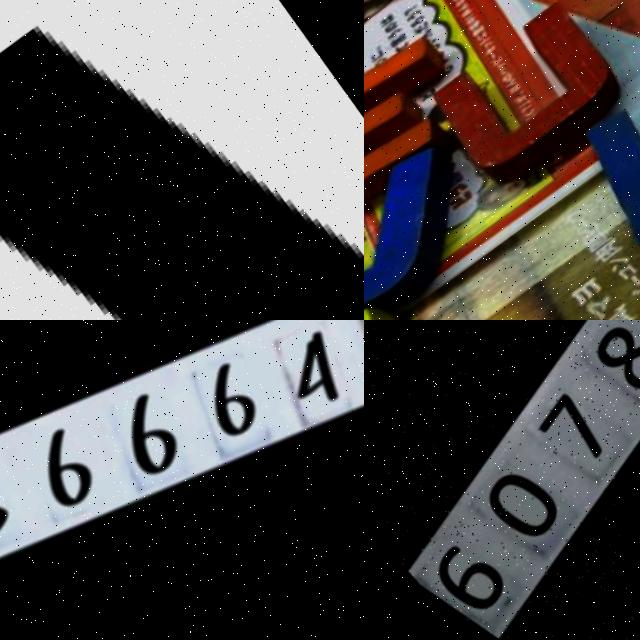0: (451, 428, 602, 577)
4: (250, 320, 364, 426)
6: (400, 502, 548, 640), (85, 365, 214, 494), (2, 400, 131, 528), (172, 336, 289, 452)
7: (509, 358, 640, 496)
8: (559, 320, 640, 423), (0, 430, 52, 568)
A: (0, 0, 364, 320)
E: (364, 23, 481, 233)
J: (364, 126, 506, 320)
L: (364, 220, 559, 320)
U: (419, 0, 637, 191)
V: (554, 19, 640, 277)
